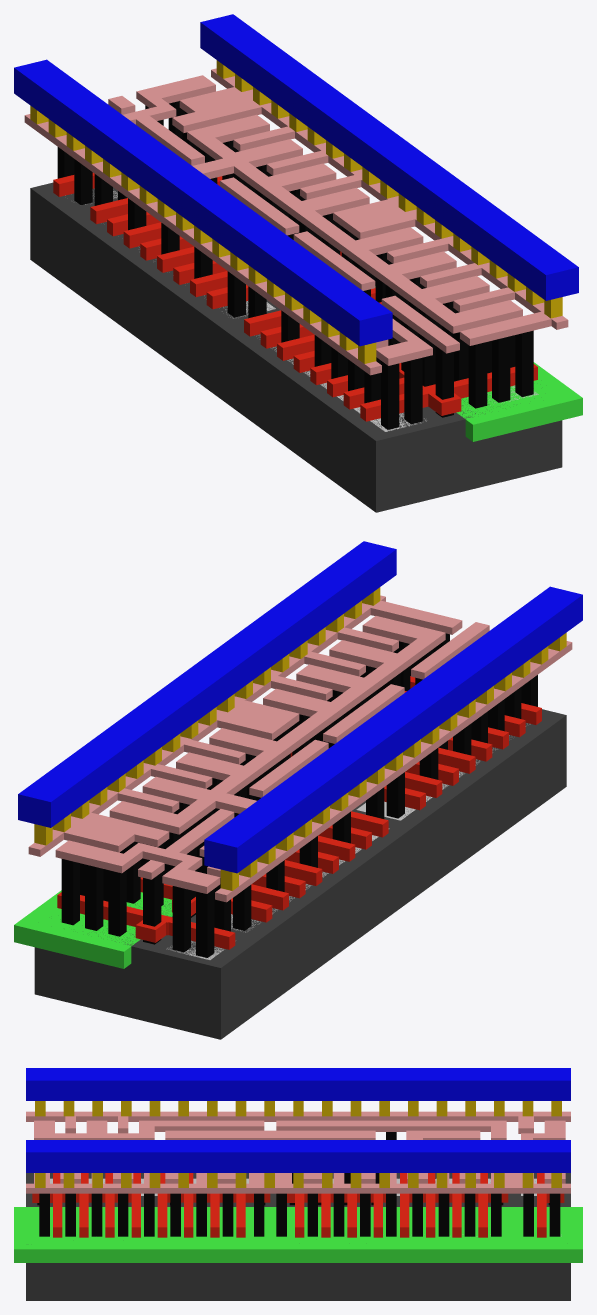
The model's file is sky130_fd_sc_hd__nand4b_4.obj.
3 renders of one model, top to bottom at view 1: azimuth 30°, elevation 25°; view 2: azimuth 150°, elevation 25°; view 3: azimuth 270°, elevation 25°, orthographic. The views are drawn at different scales.
Visible parts, largest first — view 1: subs, metal1, li, licon, poly, mcon, nwell; view 2: subs, metal1, li, licon, poly, mcon, nwell, diff; view 3: metal1, subs, nwell, li, licon, poly, mcon.
Part boxes in pixels (x1,y1,x2,y2): subs: [30, 182, 562, 512]; metal1: [14, 14, 578, 346]; li: [24, 68, 568, 375]; licon: [57, 101, 533, 429]; poly: [53, 172, 537, 421]; mcon: [30, 60, 562, 363]; nwell: [375, 286, 582, 441]; subs: [34, 709, 566, 1039]; metal1: [18, 541, 582, 873]; li: [28, 595, 572, 902]; licon: [61, 633, 537, 957]; poly: [57, 676, 541, 949]; mcon: [34, 587, 566, 890]; nwell: [14, 890, 172, 968]; diff: [166, 723, 530, 959]; metal1: [26, 1068, 570, 1172]; subs: [26, 1173, 570, 1300]; nwell: [14, 1207, 582, 1262]; li: [26, 1111, 570, 1193]; licon: [37, 1132, 560, 1236]; poly: [32, 1173, 564, 1237]; mcon: [35, 1101, 561, 1187].
Size of the model in its own units: 3.2 by 2.74 by 9.12.
